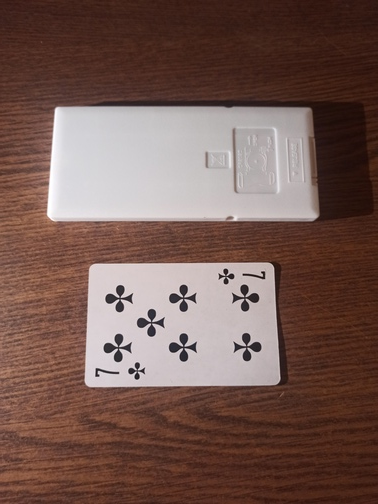sevenclubs: (82, 258, 282, 388)
